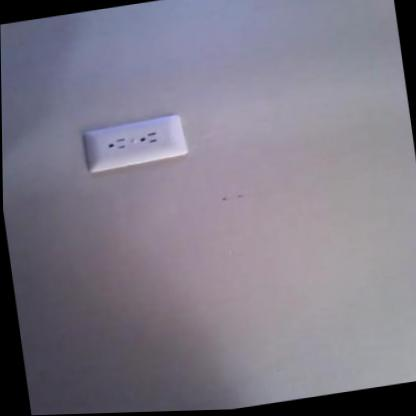OUTLET: (81, 115, 186, 171)
